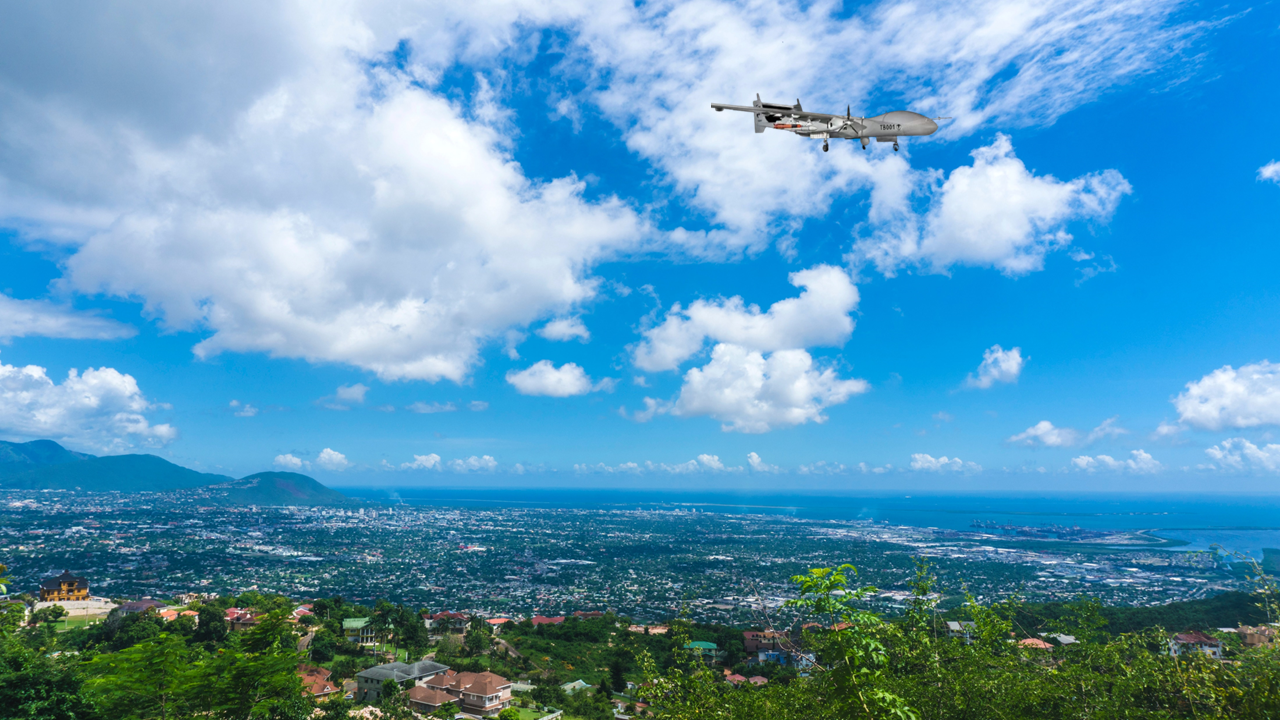military drone: (711, 92, 938, 152)
